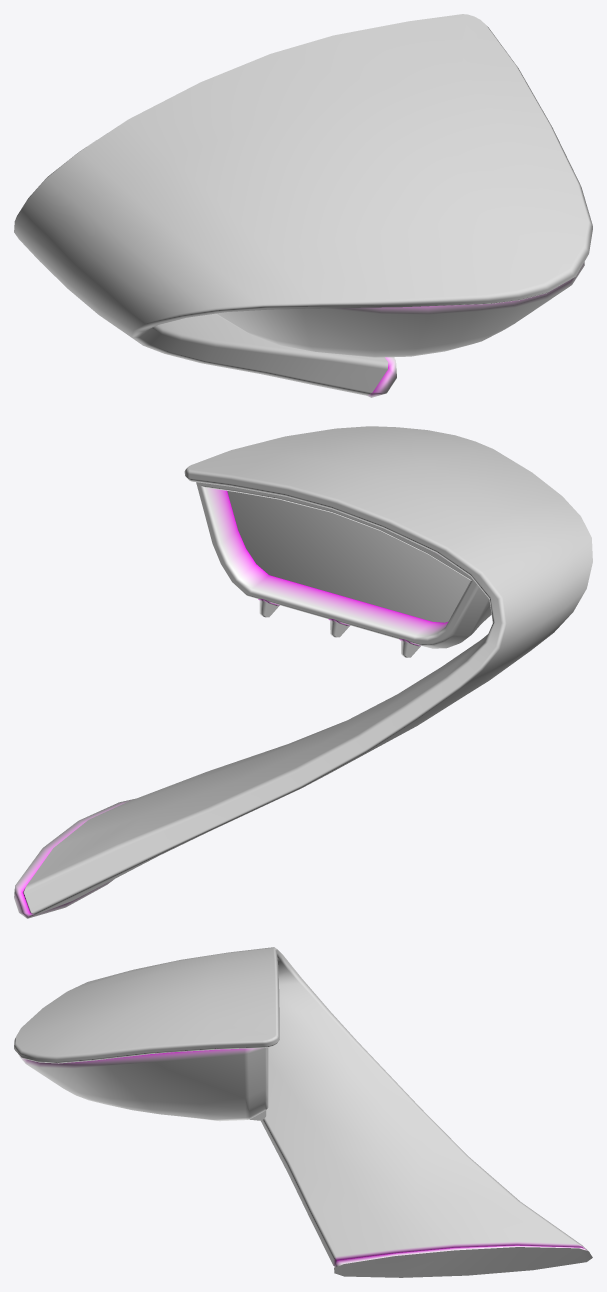
The model's file is Car_Mini_CountrymanJCW_2017_MirrorR_SetD.fbx.
The picture shows the model from 3 angles, top to bottom: view 1: azimuth 30°, elevation 25°; view 2: azimuth 150°, elevation 25°; view 3: azimuth 270°, elevation 25°; orthographic projection. The views are drawn at different scales.
Parts seen in each view (by area): view 1: MirrorR 6; view 2: MirrorR 6; view 3: MirrorR 6.
Part boxes in pixels (x1,y1,x2,y2): MirrorR 6: (14,14,592,397); MirrorR 6: (14,426,592,918); MirrorR 6: (14,947,592,1277).
Size of the model in its own units: 0.2032 by 0.19 by 0.3798.
